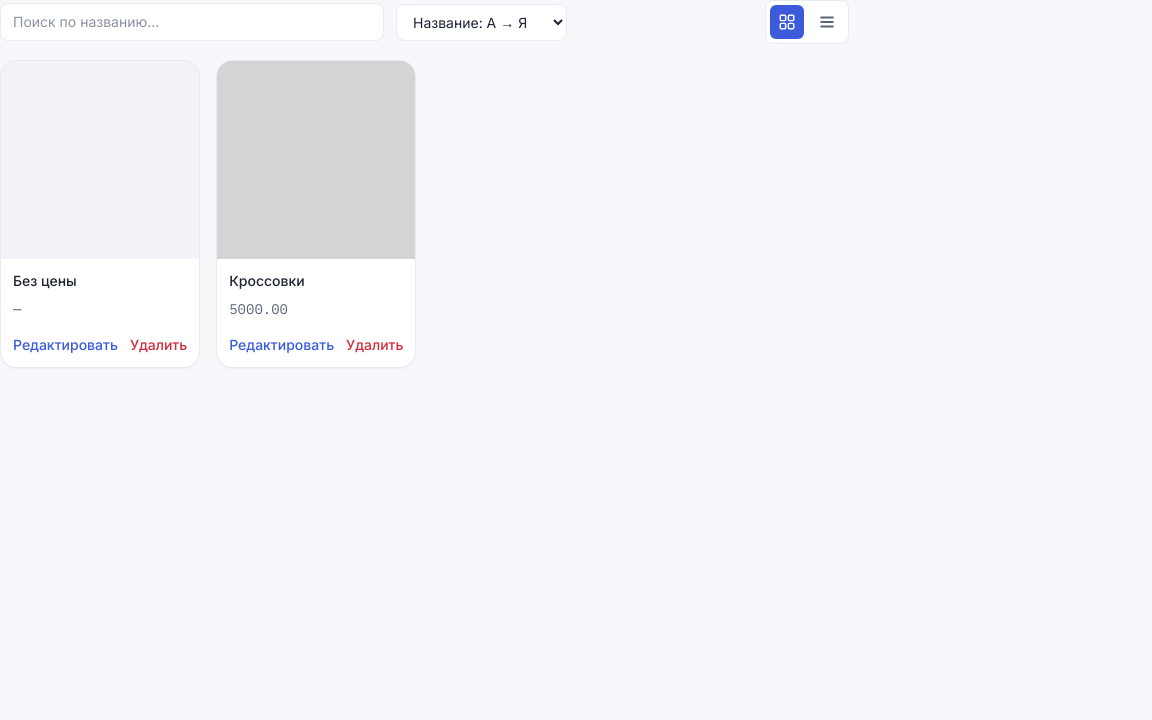
does nothing when the delete confirmation is declined
Click the button "Удалить" below "Без цены" at (159, 345), box [130, 335, 187, 355]
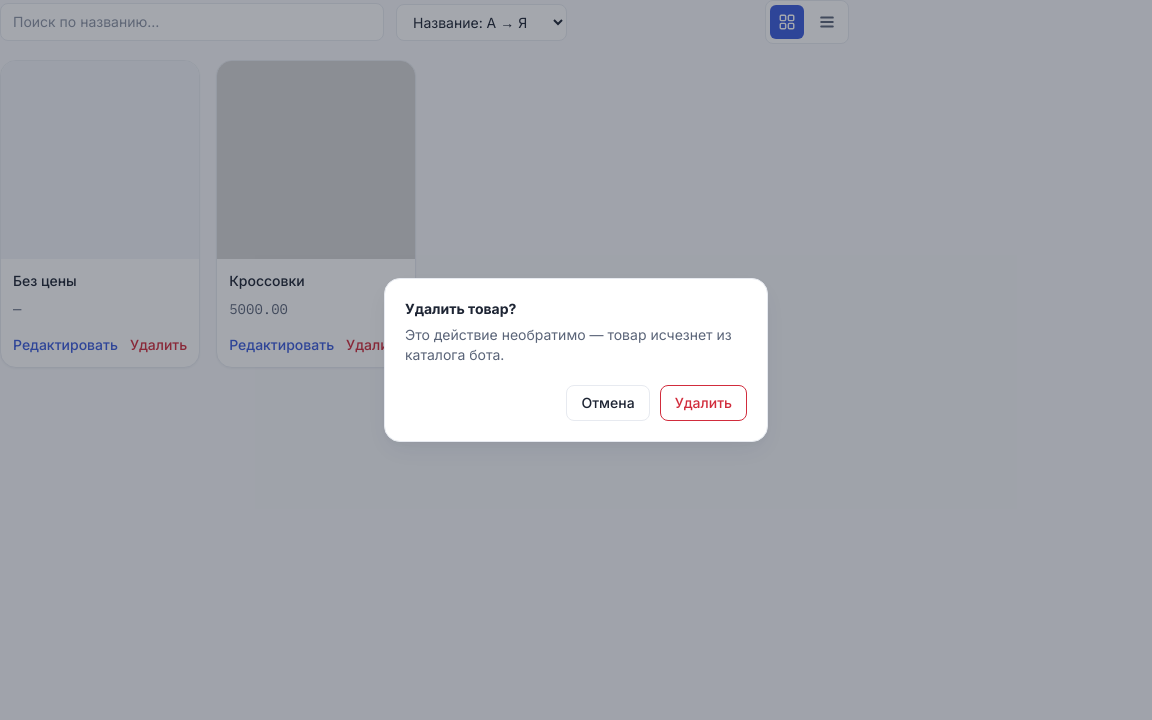
Click the button "Отмена" at (608, 403), box [566, 385, 650, 421]
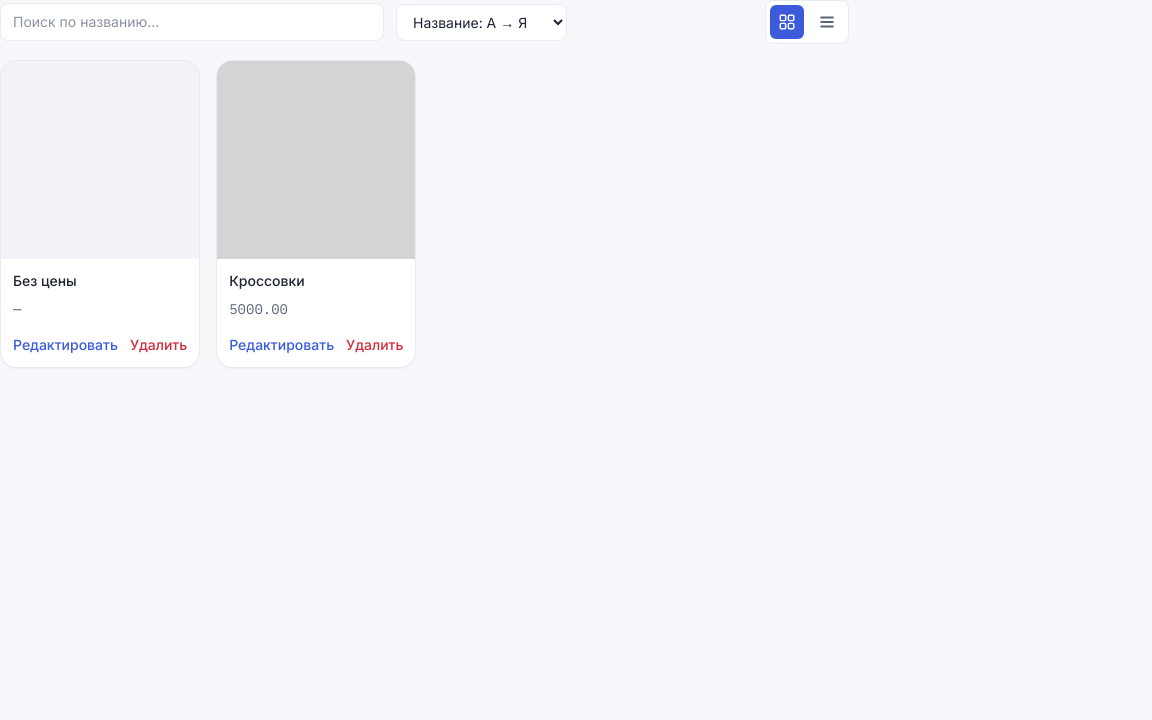
Expected: the text "Кроссовки" is shown, [229, 272, 305, 289]
Now the dialog is gone
